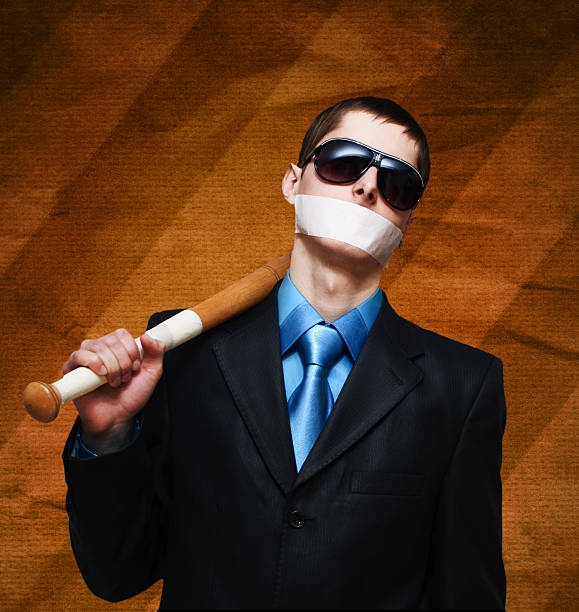bita: (23, 248, 284, 425)
